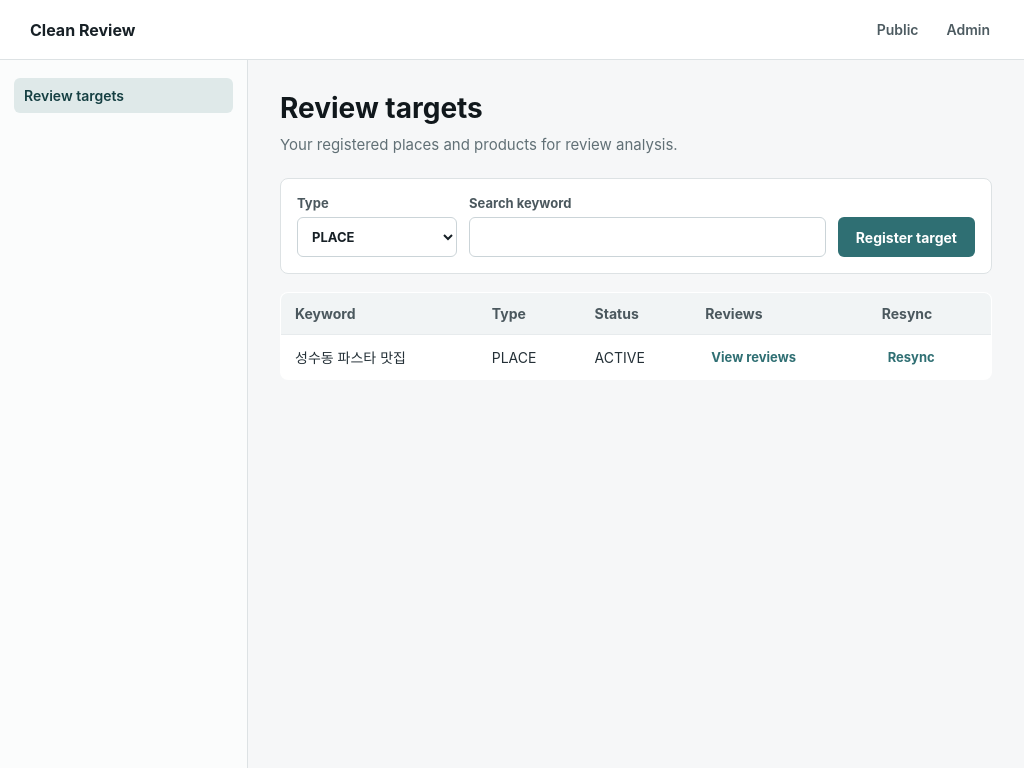
Test case: App route shells › loads collected reviews for the selected review target
This screenshot has width=1024, height=768.
What coordinates should you click on to do the following:
click the button with aria-label "View reviews for 성수동 파스타 맛집"
I would click on:
 (754, 357)
Its box is [705,348,802,366].
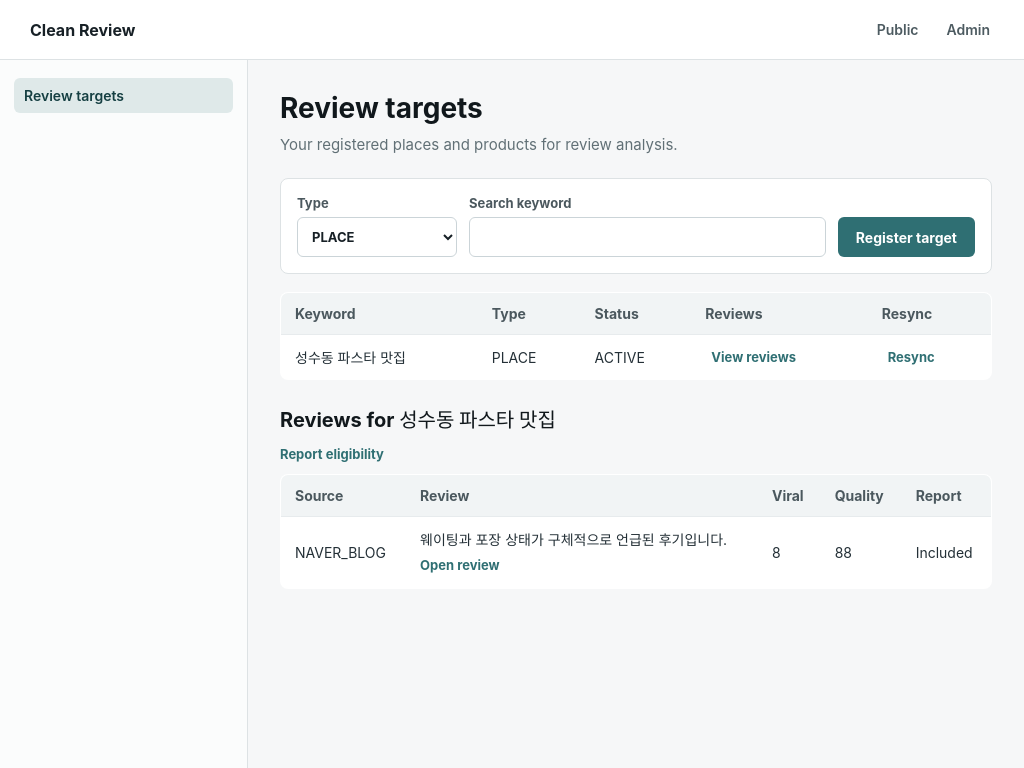
Now the text "웨이팅과 포장 상태가 구체적으로 언급된 후기입니다." is shown, box [420,529,744,550]
Now the heading "Reviews for 성수동 파스타 맛집" is shown, box [280,408,556,432]
Now the text "Included" is shown, box [902,517,992,588]
